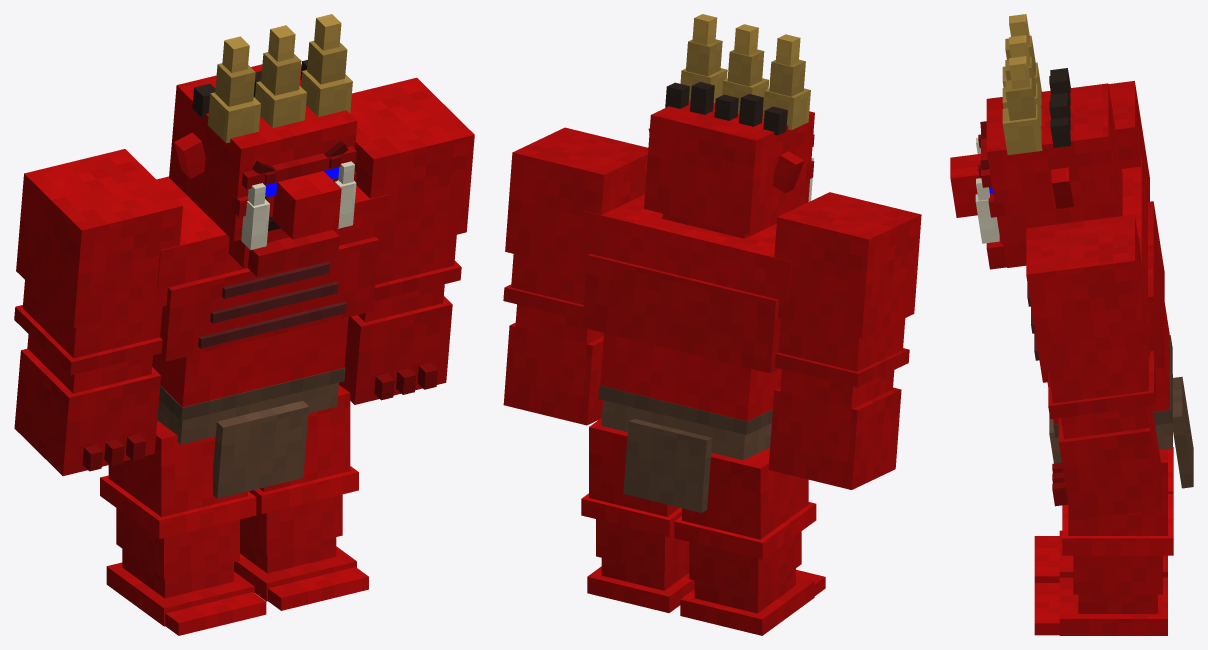
File: ogre_s2_evo1.glb
3 views of the same model, side by side, from view 1: azimuth 30°, elevation 25°; view 2: azimuth 150°, elevation 25°; view 3: azimuth 270°, elevation 25° (orthographic). The views are drawn at different scales.
Visible parts, largest first — view 1: ArmR, Torso, Head, ArmL, LegR, LegL; view 2: Torso, ArmR, Head, ArmL, LegR, LegL; view 3: ArmL, Head, LegL, Torso, ArmR, LegR.
Boxes of the visible parts, x1,y1,x2,y2 form: ArmR: (14,149,182,475); Torso: (152,176,389,498); Head: (169,14,357,276); ArmL: (339,77,474,404); LegR: (100,420,266,635); LegL: (234,385,368,610); Torso: (580,194,791,512); ArmR: (768,192,921,489); Head: (644,14,814,238); ArmL: (503,127,648,425); LegR: (674,448,825,635); LegL: (581,418,694,612); ArmL: (1026,214,1161,520); Head: (950,14,1122,269); LegL: (1034,449,1173,635); Torso: (1027,157,1193,488); ArmR: (1108,81,1149,201); LegR: (1034,447,1173,582).
Size of the model in its own units: 1.46 by 2.09 by 0.8306.
Materials: 26 (26 with a texture image).
